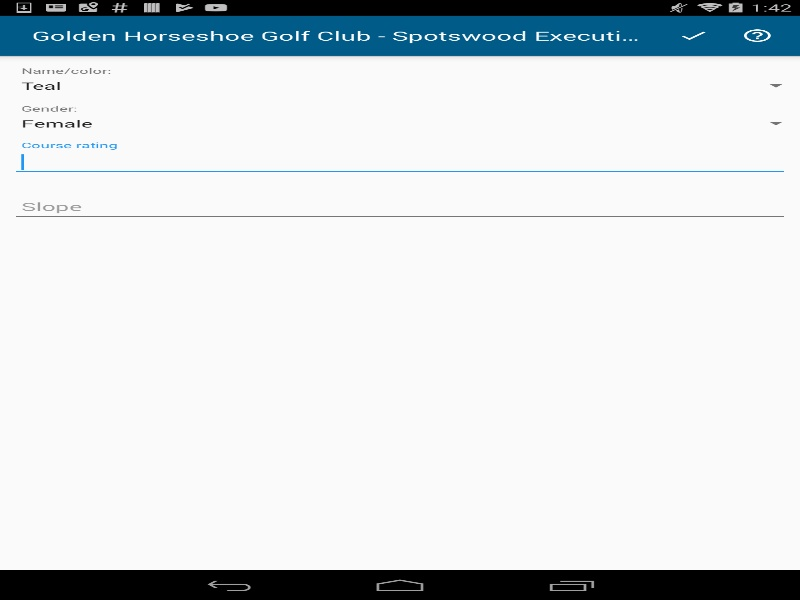Input: (10, 148, 789, 176), (10, 193, 789, 221)
